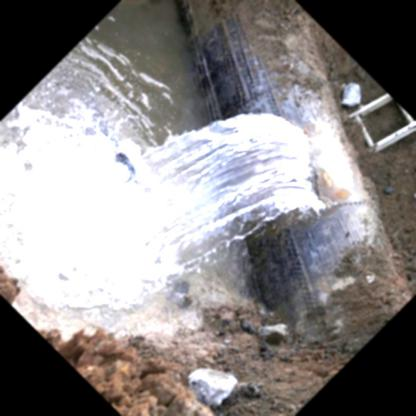burst: (272, 115, 333, 225)
